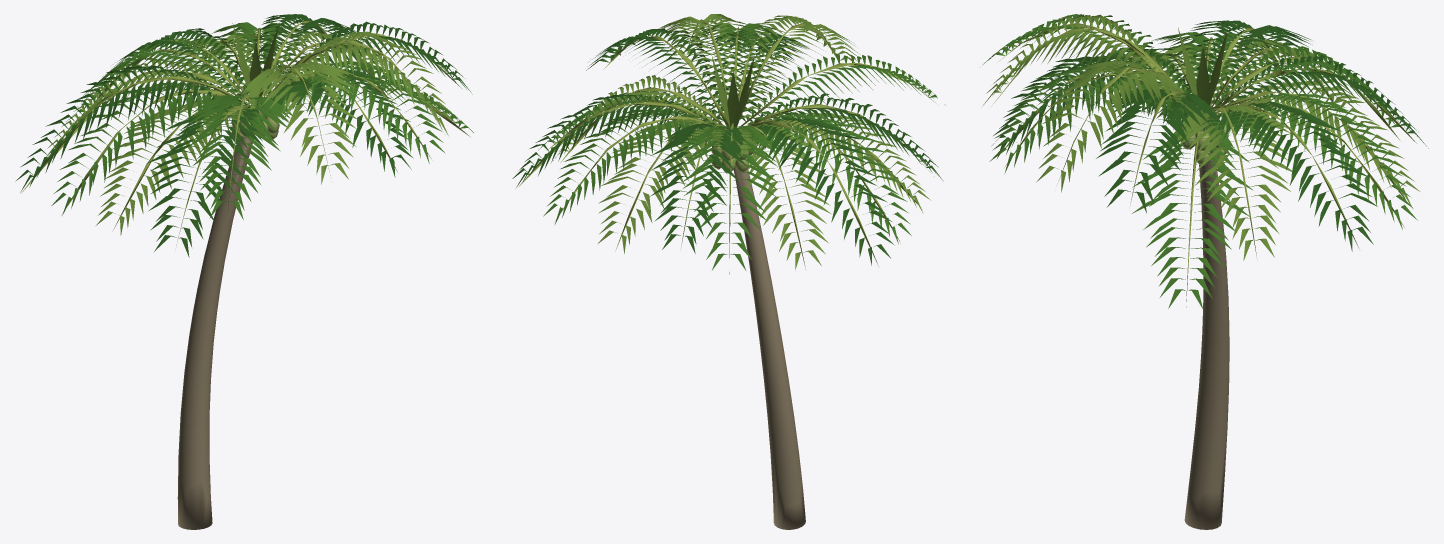
File: CoconutPalm_A.glb
3 renders of one model, left to right at view 1: azimuth 30°, elevation 25°; view 2: azimuth 150°, elevation 25°; view 3: azimuth 270°, elevation 25°, orthographic. The views are drawn at different scales.
Parts seen in each view (by area): view 1: CoconutPalm_A_Palm_LeafColor, CoconutPalm_A_Palm_Bark_WarmGray, CoconutPalm_A_Coconut_Frond_Stem; view 2: CoconutPalm_A_Palm_LeafColor, CoconutPalm_A_Palm_Bark_WarmGray, CoconutPalm_A_Coconut_Frond_Stem; view 3: CoconutPalm_A_Palm_LeafColor, CoconutPalm_A_Palm_Bark_WarmGray, CoconutPalm_A_Coconut_Frond_Stem.
Boxes of the visible parts, x1=… form: CoconutPalm_A_Palm_LeafColor: x1=15, y1=14, x2=473, y2=257; CoconutPalm_A_Palm_Bark_WarmGray: x1=177, y1=109, x2=261, y2=529; CoconutPalm_A_Coconut_Frond_Stem: x1=21, y1=20, x2=469, y2=245; CoconutPalm_A_Palm_LeafColor: x1=512, y1=14, x2=945, y2=270; CoconutPalm_A_Palm_Bark_WarmGray: x1=729, y1=136, x2=805, y2=529; CoconutPalm_A_Coconut_Frond_Stem: x1=519, y1=19, x2=935, y2=274; CoconutPalm_A_Palm_LeafColor: x1=982, y1=14, x2=1428, y2=309; CoconutPalm_A_Palm_Bark_WarmGray: x1=1184, y1=122, x2=1229, y2=529; CoconutPalm_A_Coconut_Frond_Stem: x1=991, y1=23, x2=1416, y2=307.
Size of the model in its own units: 8.91 by 9.91 by 7.73.
